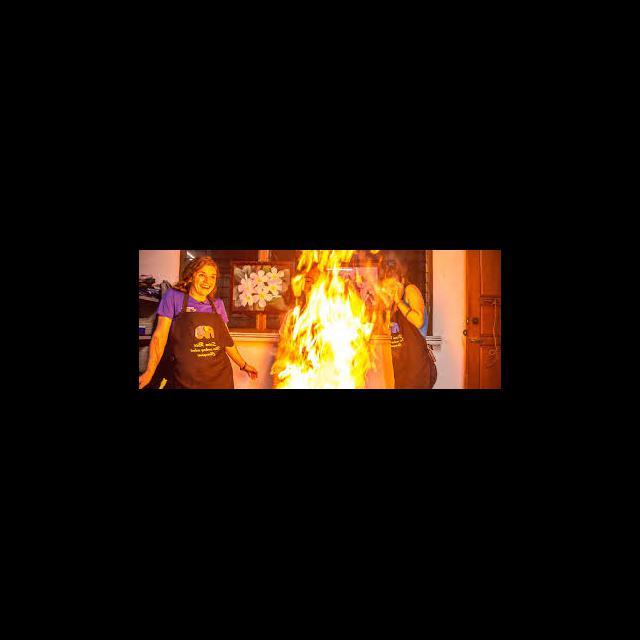Fire: (266, 250, 386, 388)
